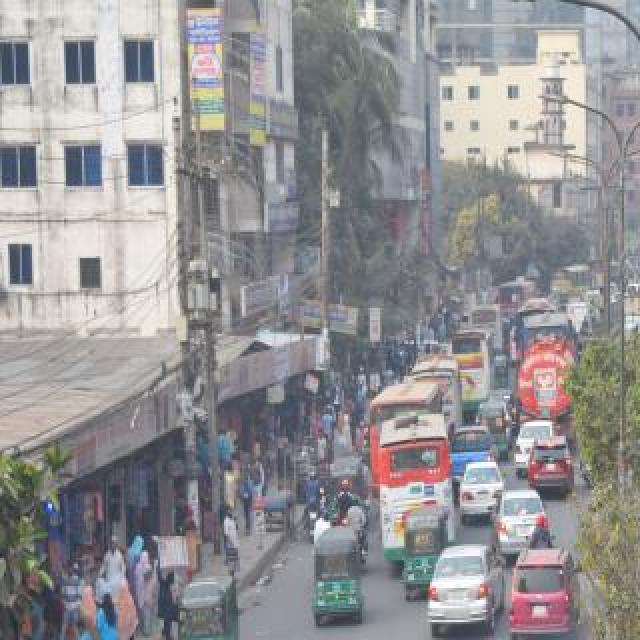bus: (378, 411, 458, 563), (367, 381, 443, 501), (411, 356, 467, 434), (447, 327, 497, 411), (515, 296, 565, 368), (519, 311, 573, 355), (469, 301, 505, 357), (302, 472, 328, 544), (548, 261, 594, 301), (632, 372, 640, 572), (624, 310, 640, 400), (497, 279, 539, 309)
car: (510, 542, 584, 640), (430, 539, 502, 637), (494, 491, 556, 573), (525, 431, 579, 501), (458, 455, 506, 525), (514, 414, 564, 474), (486, 388, 518, 428)
motorbike: (346, 495, 374, 569), (333, 475, 361, 533), (250, 628, 298, 640)
truck: (516, 334, 578, 442)
van: (449, 424, 501, 484), (565, 302, 603, 334), (460, 632, 564, 640)
